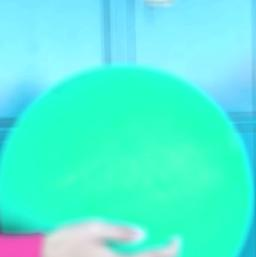algae: (0, 62, 251, 257)
